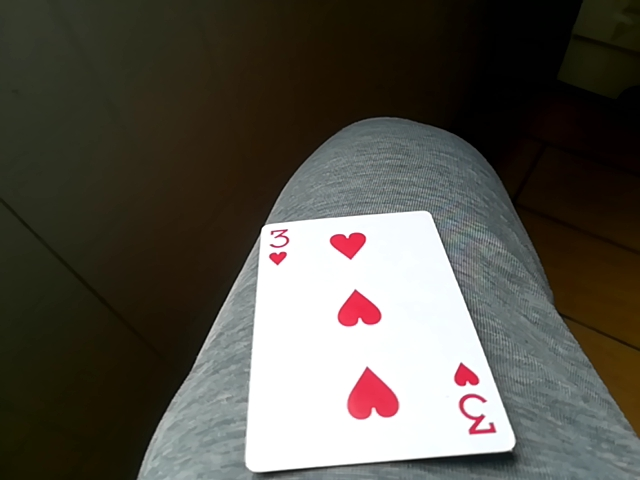hx 3: (244, 209, 516, 477)
